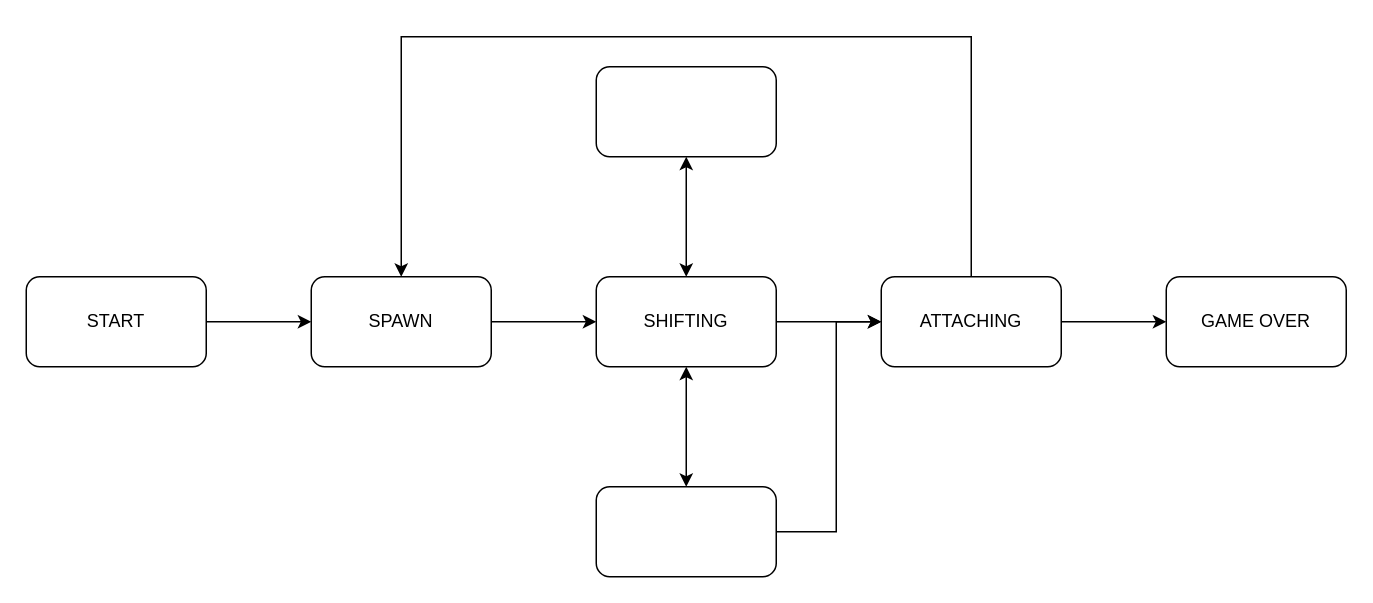
The diagram is 1373 pixels wide and 603 high, and some of its shapes have lost their labels. Here are the shapes that lost their labels. From the top down, the box of each, then its label:
(595, 65, 776, 157): PAUSE
(595, 485, 776, 577): MOVING
